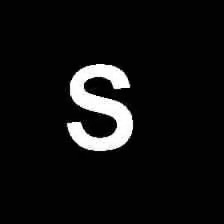LTR_S: (63, 56, 137, 155)
